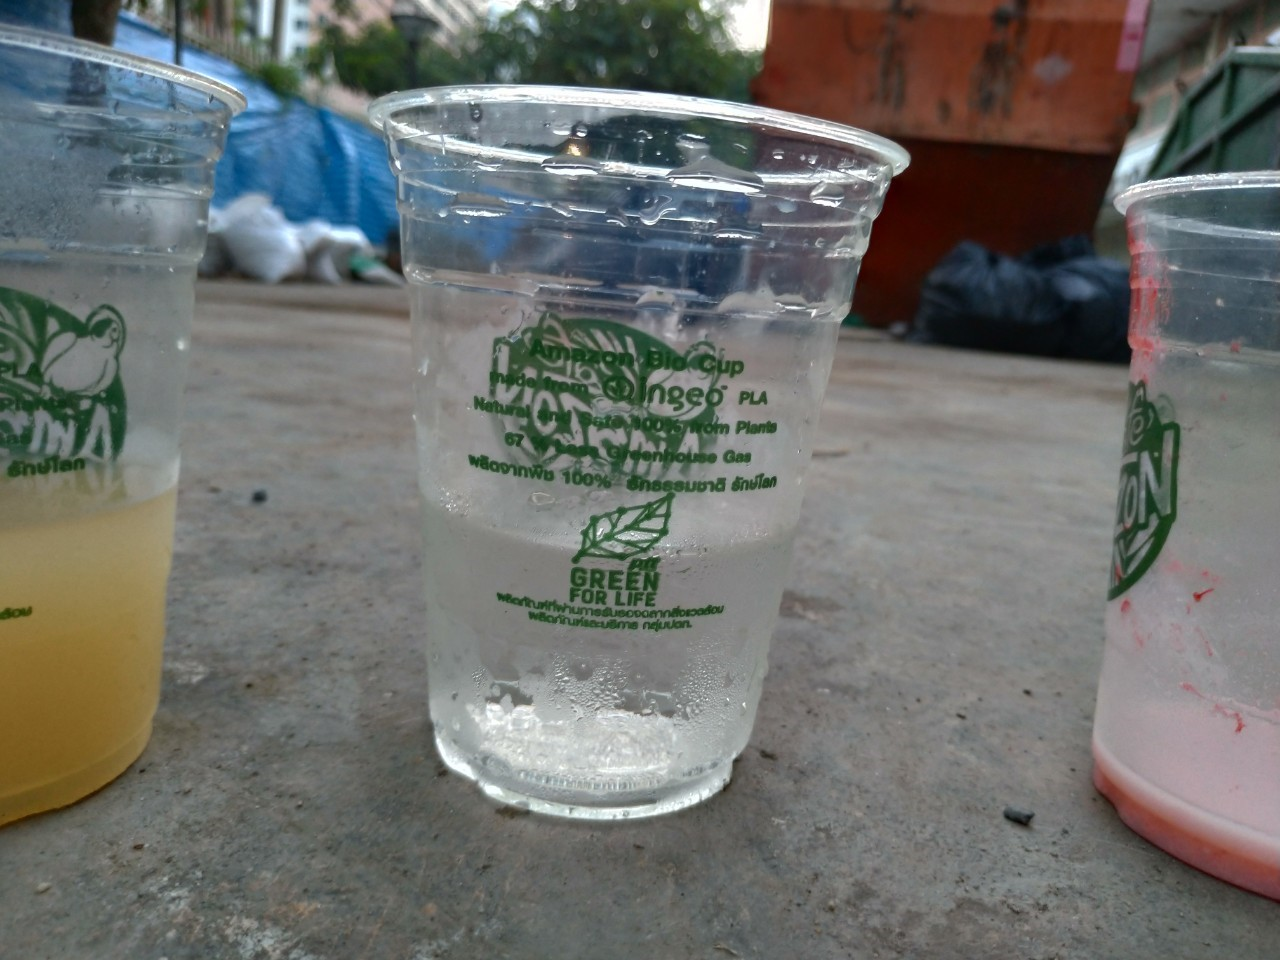PlasticCup: (360, 75, 905, 817), (1, 33, 245, 834), (1080, 162, 1279, 894)
